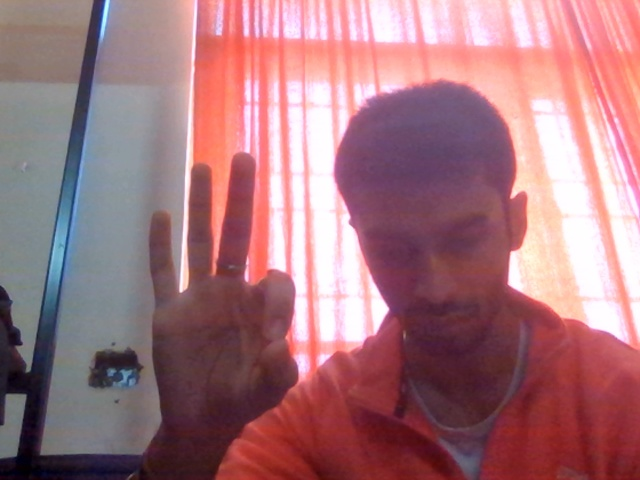F: (116, 118, 331, 480)
